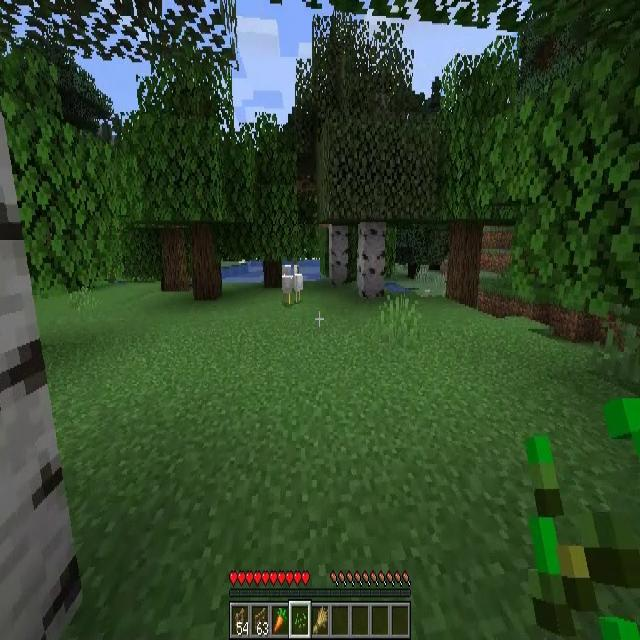duck: (282, 265, 294, 307), (294, 266, 303, 302)
